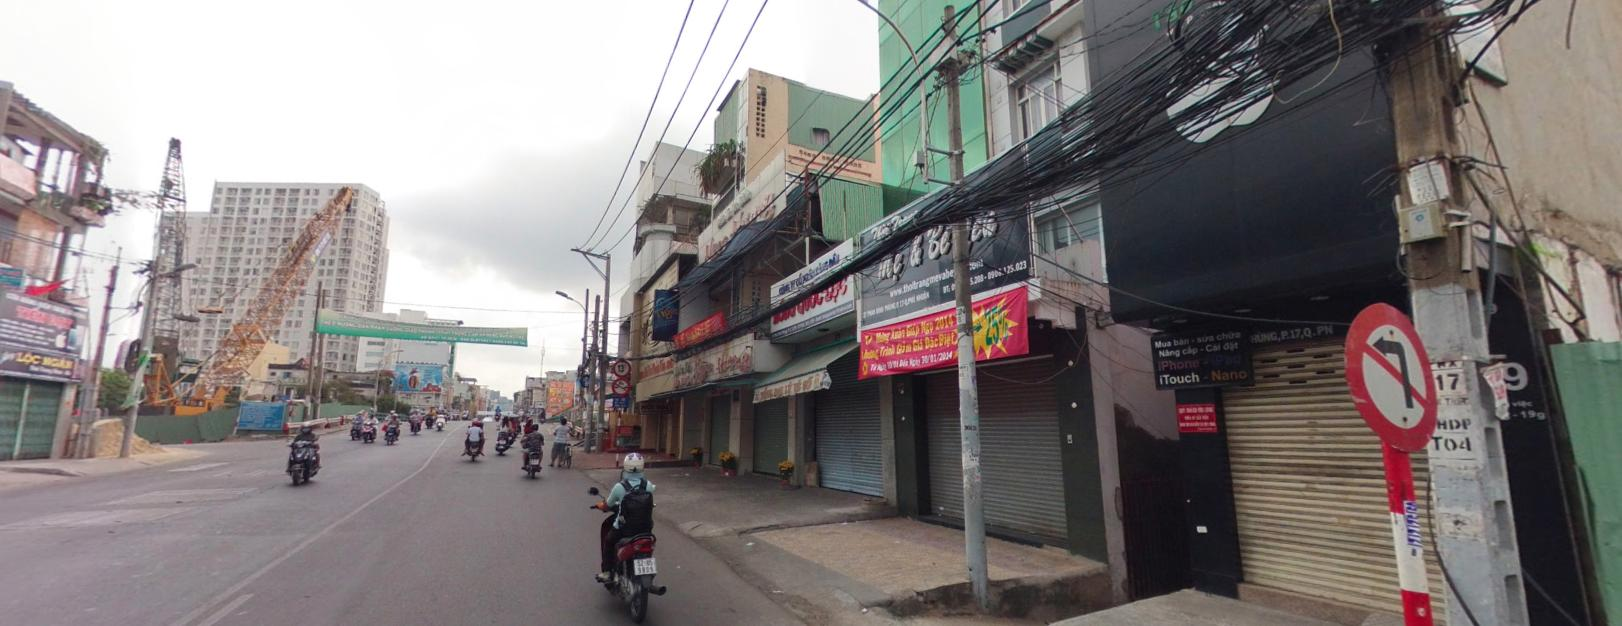Cam con lai: (611, 376, 630, 395), (612, 377, 630, 395), (612, 357, 630, 376), (613, 358, 630, 375)
Cam re: (1343, 299, 1443, 453), (1344, 300, 1437, 448)
